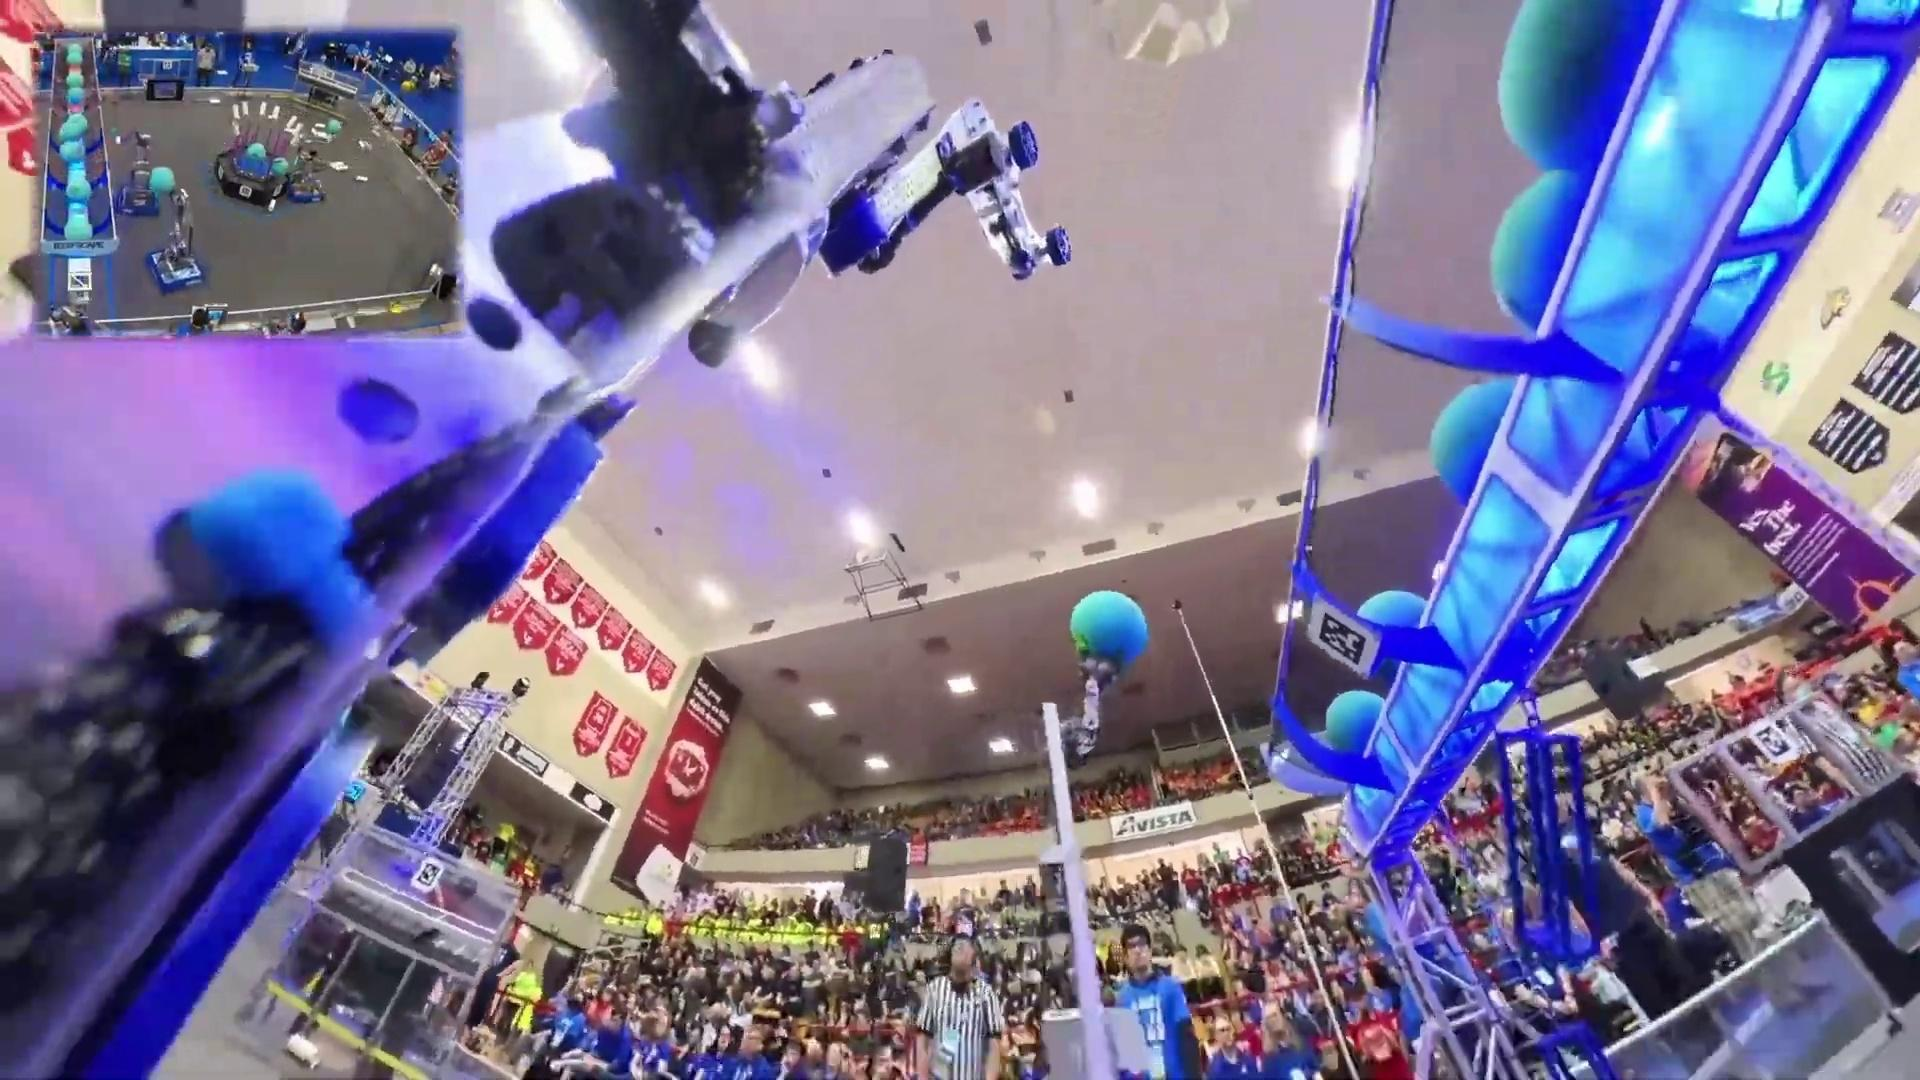robot: (148, 193, 207, 295), (113, 124, 160, 222), (290, 144, 330, 206)
